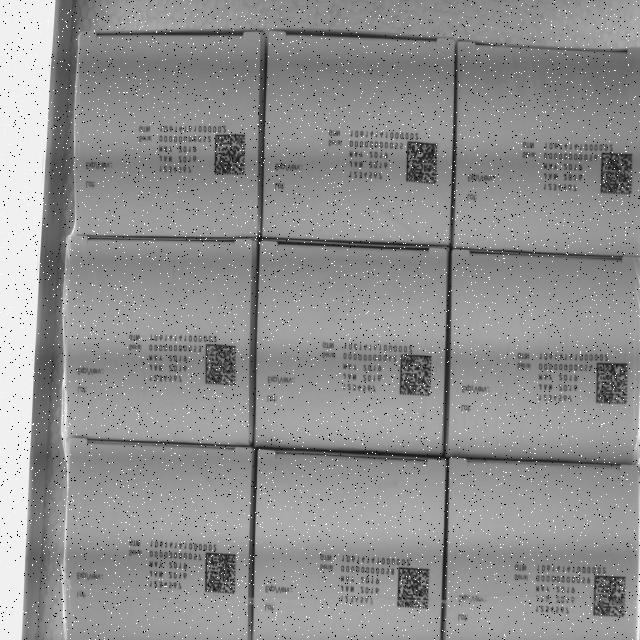datamatrix: (396, 564, 432, 610), (594, 360, 630, 406), (591, 575, 626, 621), (398, 353, 433, 399), (405, 140, 440, 186), (213, 133, 248, 179), (204, 552, 239, 597), (600, 152, 634, 198), (204, 344, 238, 389)
